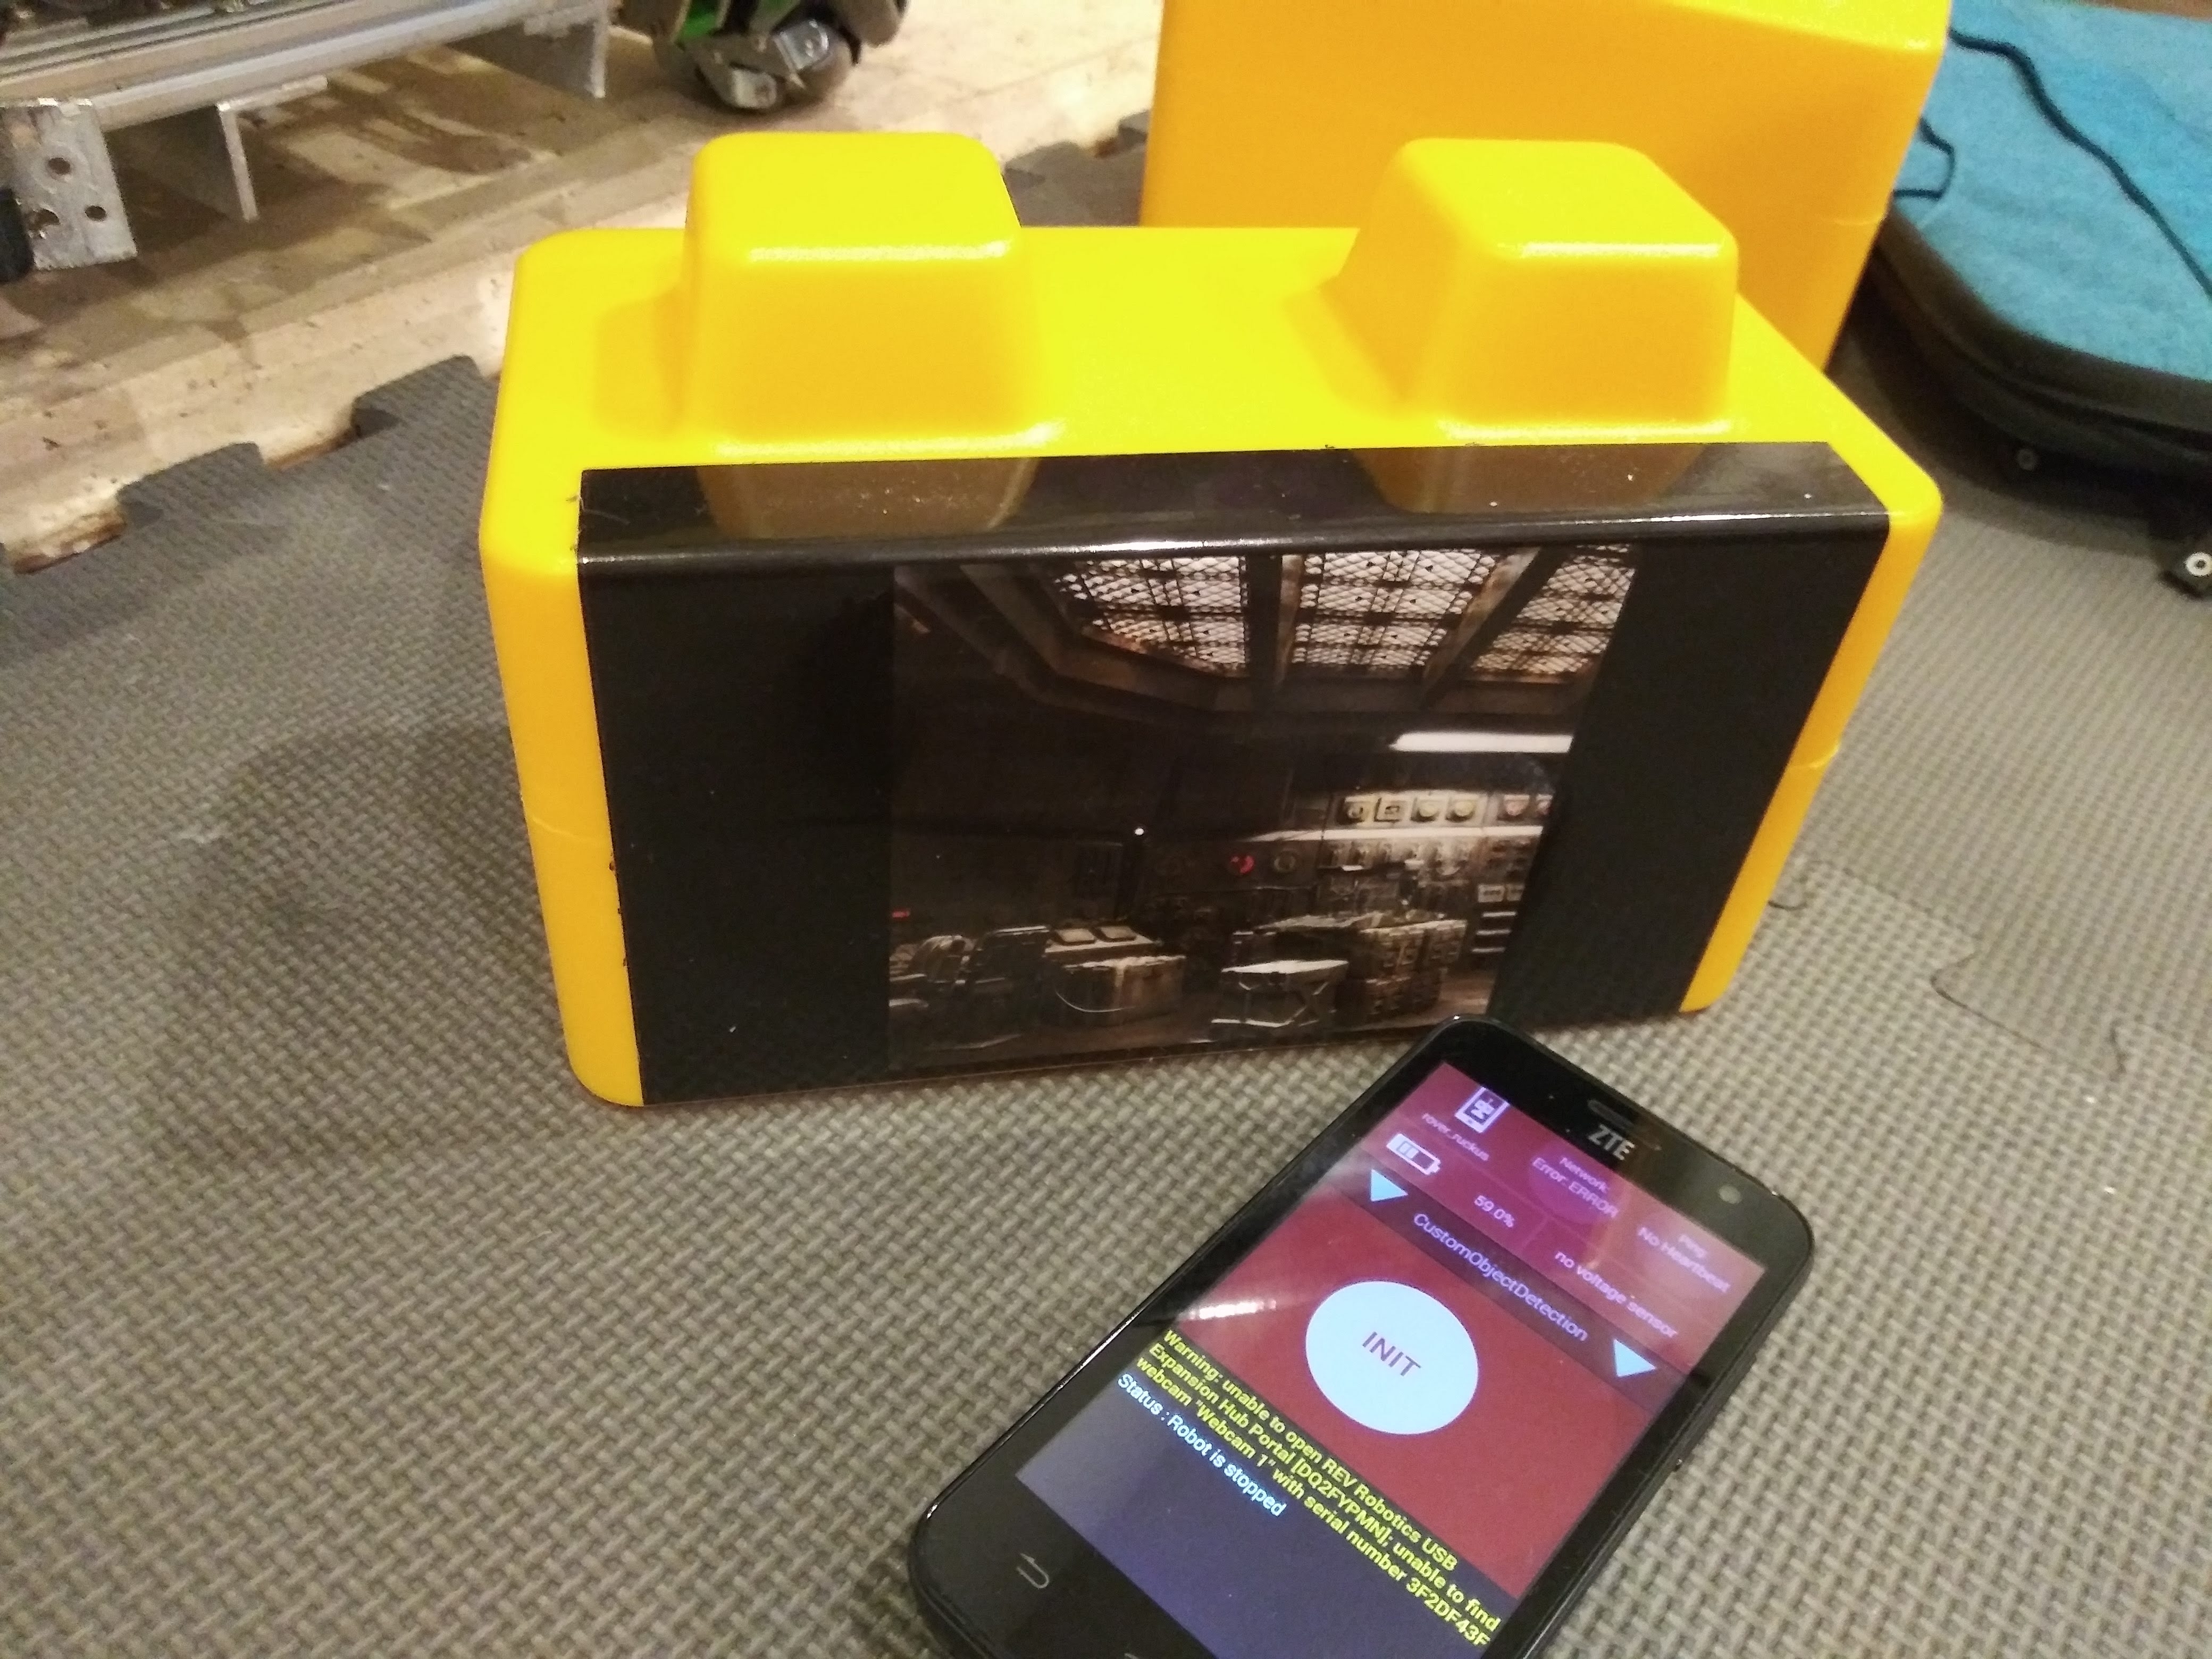skystone: (500, 413, 1921, 1089)
